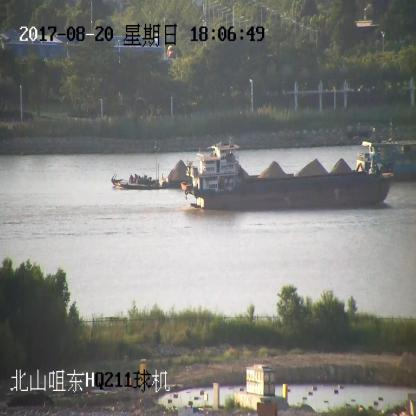Bulk Carrier: (183, 139, 394, 210)
